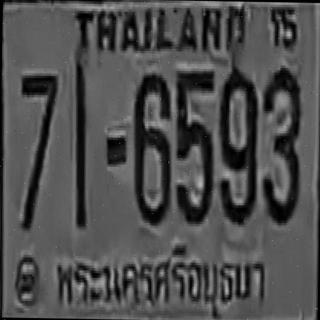N03: (260, 64, 301, 220)
N05: (173, 69, 214, 223)
N06: (130, 71, 172, 222)
N07: (17, 71, 57, 227)
N09: (216, 66, 257, 222)
P03: (48, 233, 270, 320)
